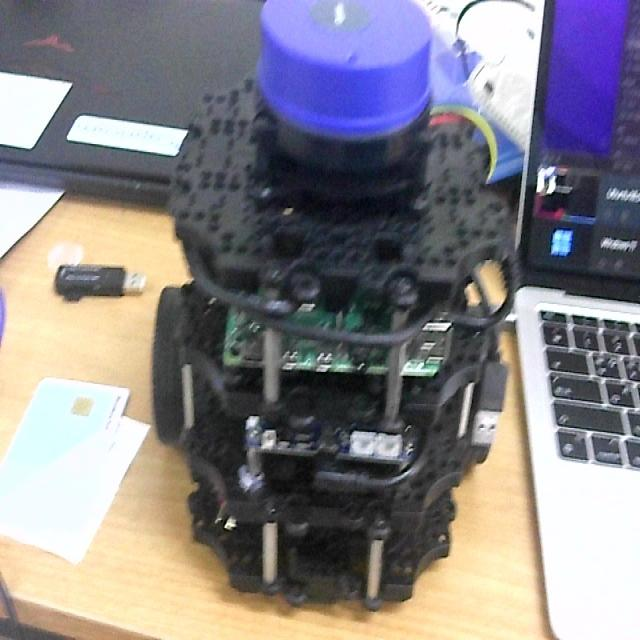turtle: (152, 1, 524, 619)
